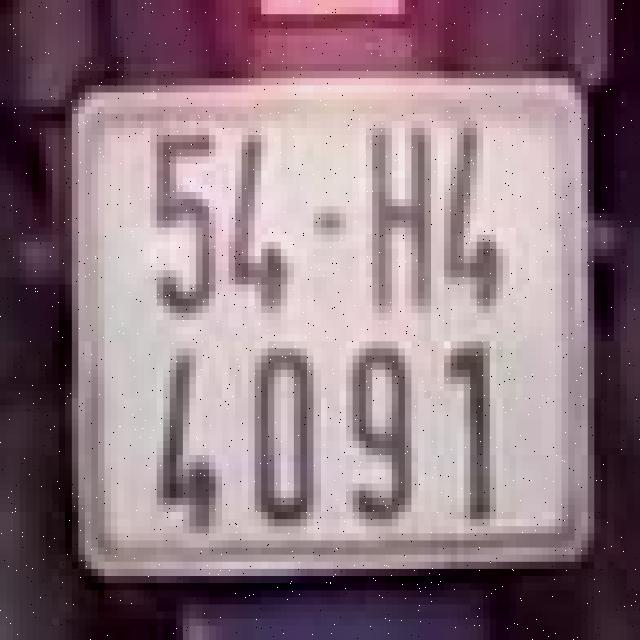0: (252, 342, 324, 534)
1: (441, 334, 519, 534)
4: (434, 107, 513, 313), (150, 338, 222, 537), (225, 124, 291, 330)
5: (144, 121, 228, 334)
9: (343, 342, 428, 534)
H: (359, 107, 438, 334)
